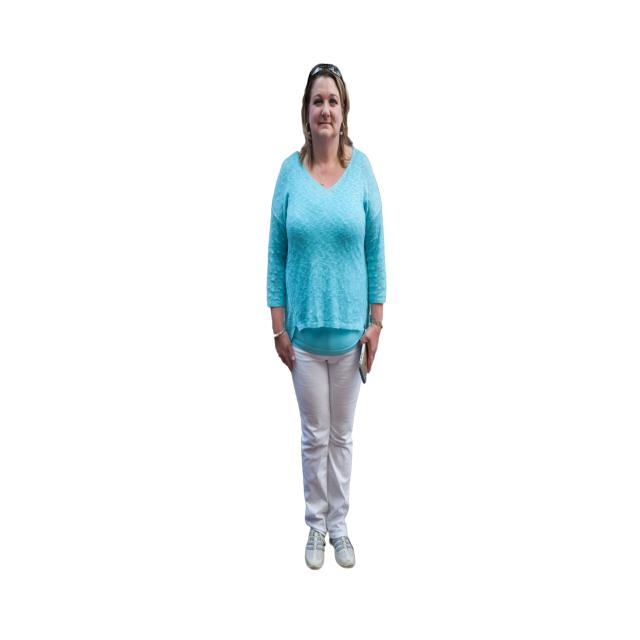jovem: (261, 48, 395, 577)
